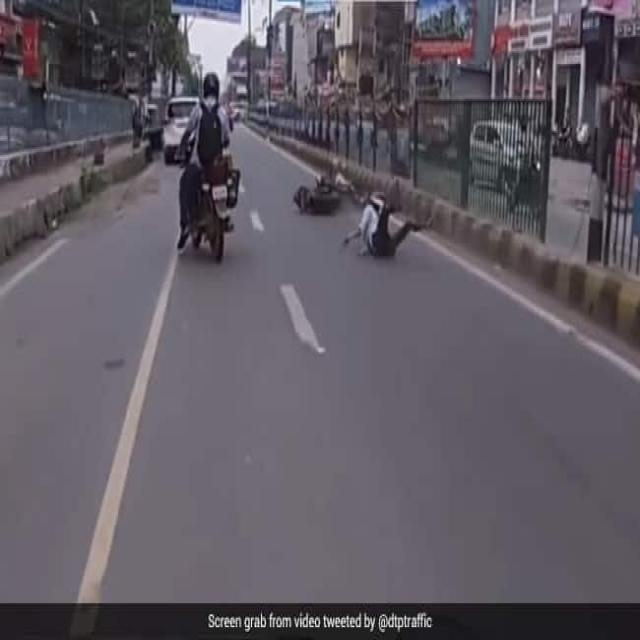motorcycle: (178, 73, 240, 261)
